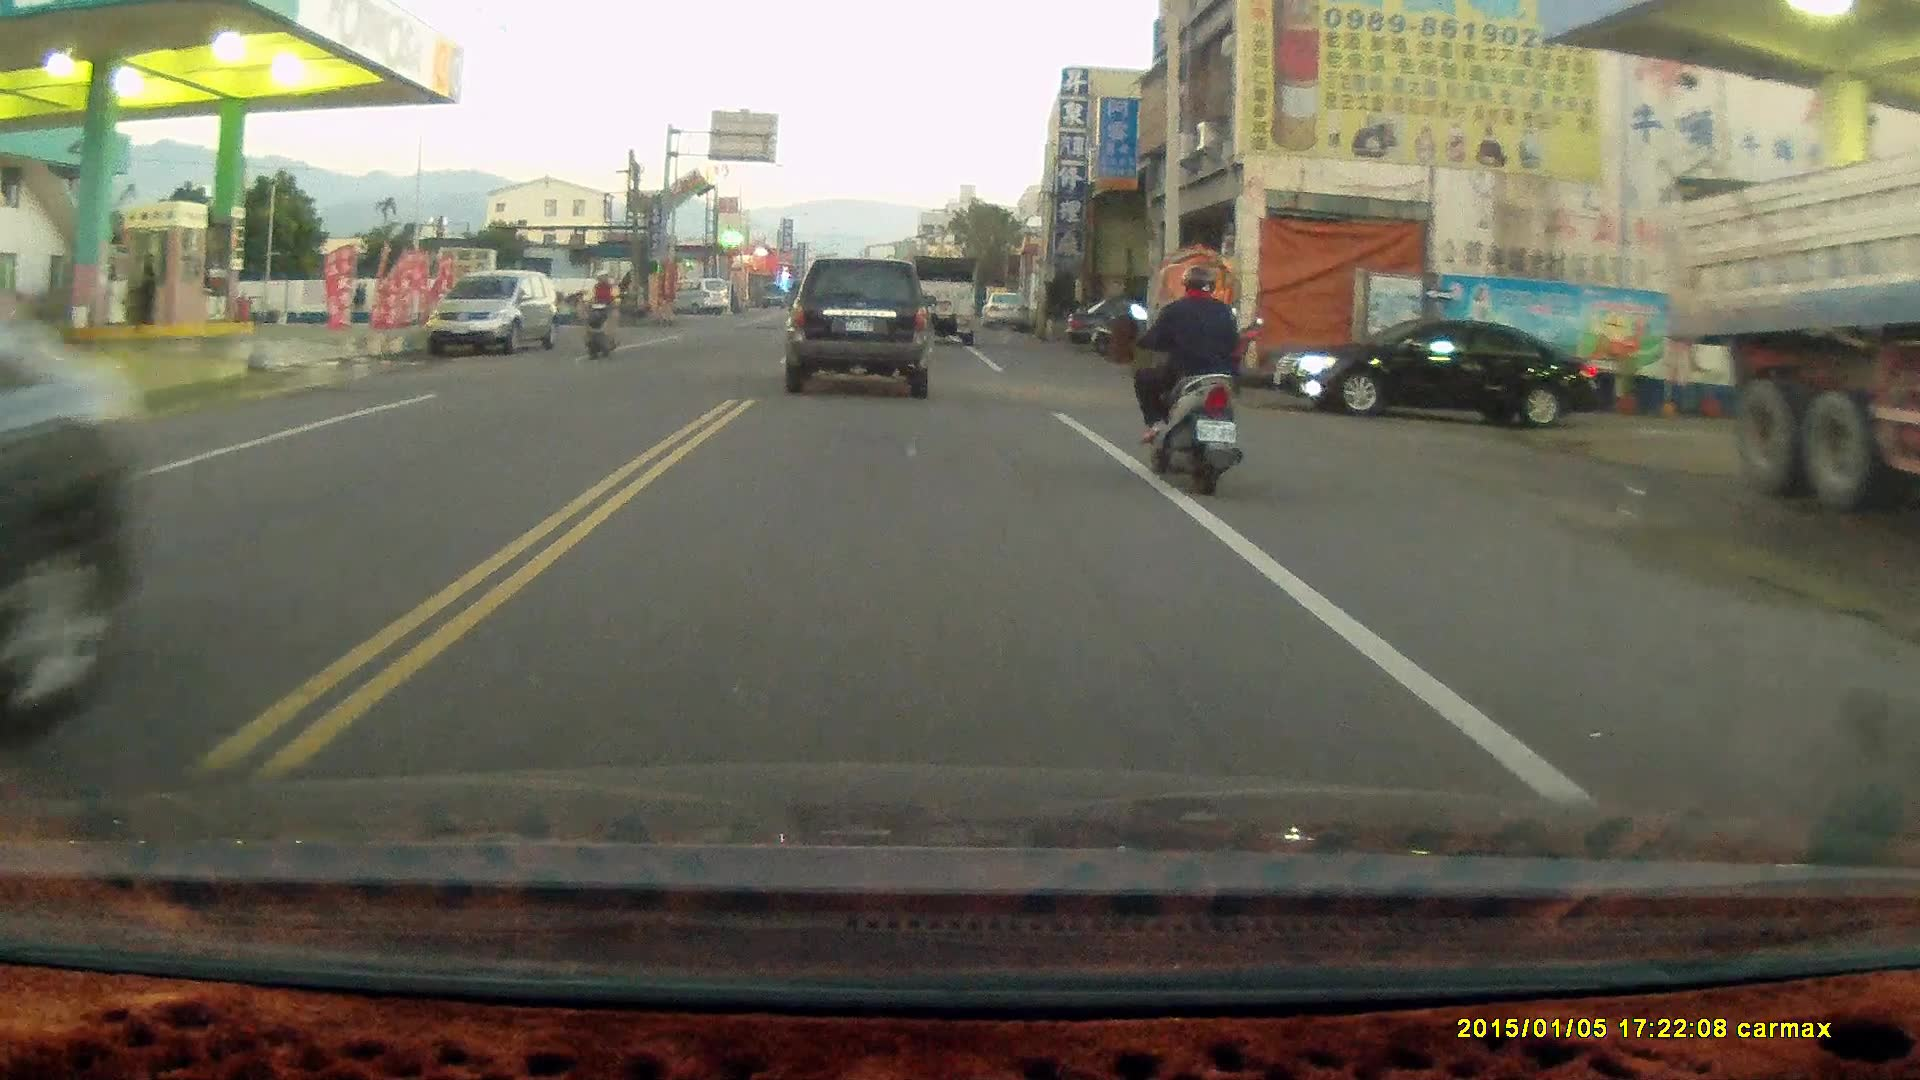rider: (1125, 267, 1239, 499), (574, 268, 616, 362)
vehicle: (1670, 127, 1920, 516), (1, 267, 153, 746), (1267, 322, 1612, 429), (790, 259, 937, 399), (428, 271, 557, 364), (895, 254, 979, 347)
